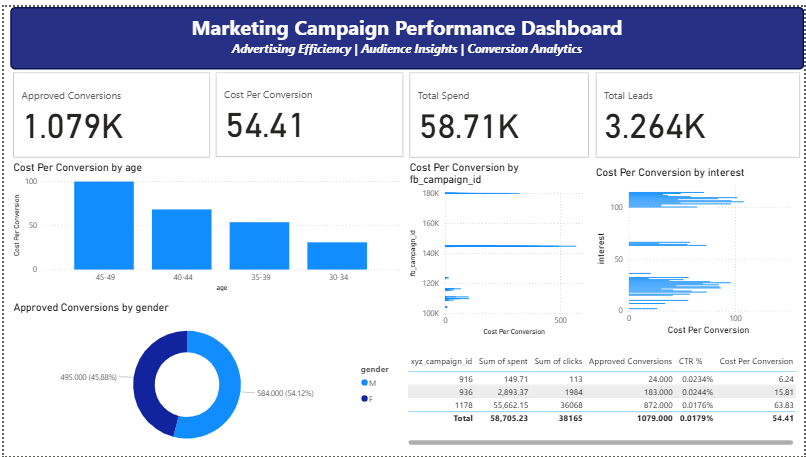

Layout of this report page (visuals, bound fields, positions):
{"tool":"powerbi","page":{"name":"Page 1","canvas":[1280,720],"ordinal":0},"visuals":[{"type":"cardVisual","fields":{"Data":["marketing.Total Spend"]},"box":[644.9,100.2,297.8,146.8],"z":0},{"type":"cardVisual","fields":{"Data":["marketing.Approved Conversions"]},"box":[9.6,100.2,325.2,146.8],"z":1000},{"type":"cardVisual","fields":{"Data":["marketing.Cost Per Conversion"]},"box":[334.8,100.2,310.1,145.5],"z":2000},{"type":"cardVisual","fields":{"Data":["marketing.Total Leads"]},"box":[942.7,100.2,337.6,146.8],"z":3000},{"type":"clusteredBarChart","fields":{"Y":["marketing.Cost Per Conversion"],"Category":["marketing.fb_campaign_id"]},"box":[644.9,245.6,297.8,284],"z":4000},{"type":"lineClusteredColumnComboChart","fields":{"Category":["marketing.age"],"Y":["marketing.Cost Per Conversion"]},"box":[9.6,247,629.8,214.1],"z":5000},{"type":"clusteredBarChart","fields":{"Category":["marketing.interest"],"Y":["marketing.Cost Per Conversion"]},"box":[942.7,253.9,328,275.8],"z":6000},{"type":"donutChart","fields":{"Category":["marketing.gender"],"Y":["marketing.Approved Conversions"]},"box":[9.6,470.7,629.8,249.7],"z":7000},{"type":"tableEx","fields":{"Values":["marketing.xyz_campaign_id","Sum(marketing.spent)","Sum(marketing.clicks)","marketing.Approved Conversions","marketing.CTR %","marketing.Cost Per Conversion"]},"box":[639.5,550.3,631.2,156.4],"z":8000},{"type":"textbox","box":[9.8,0,1270.5,100.3],"z":9000}]}

Visuals, with their boxes in screenshot pixels (x1, y1, x2, y2), scaled from the page's 1280x720 canvas onto the 806x457 screenshot:
cardVisual - marketing.Total Spend: box(406, 64, 594, 157)
cardVisual - marketing.Approved Conversions: box(6, 64, 211, 157)
cardVisual - marketing.Cost Per Conversion: box(211, 64, 406, 156)
cardVisual - marketing.Total Leads: box(594, 64, 805, 157)
clusteredBarChart - marketing.Cost Per Conversion x marketing.fb_campaign_id: box(406, 156, 594, 336)
lineClusteredColumnComboChart - marketing.age x marketing.Cost Per Conversion: box(6, 157, 403, 293)
clusteredBarChart - marketing.interest x marketing.Cost Per Conversion: box(594, 161, 800, 336)
donutChart - marketing.gender x marketing.Approved Conversions: box(6, 299, 403, 456)
tableEx - marketing.xyz_campaign_id x Sum(marketing.spent): box(403, 349, 800, 449)
textbox: box(6, 0, 805, 64)
